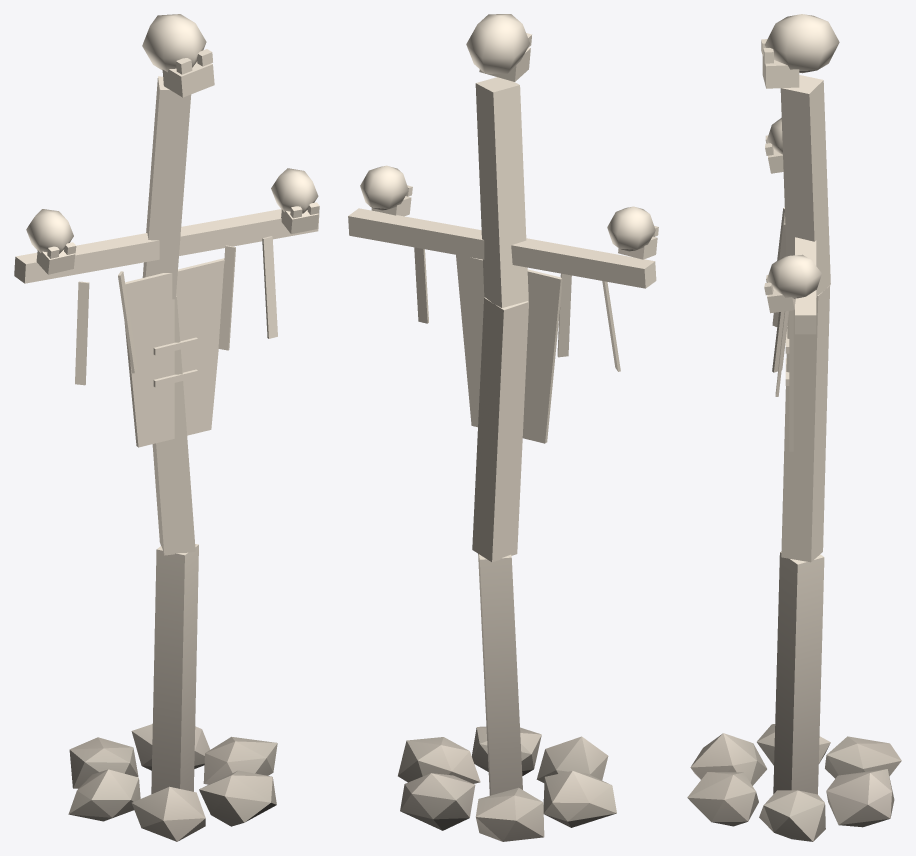
File: SM_VKI_Prop_Totem_Goblin.fbx
3 views of the same model, side by side, from view 1: azimuth 30°, elevation 25°; view 2: azimuth 150°, elevation 25°; view 3: azimuth 270°, elevation 25° (orthographic).
Parts seen in each view (by area): view 1: SM_VKI_Prop_Totem_Goblin.001; view 2: SM_VKI_Prop_Totem_Goblin.001; view 3: SM_VKI_Prop_Totem_Goblin.001.
Part boxes in pixels (x1=…): SM_VKI_Prop_Totem_Goblin.001: x1=14, y1=14, x2=319, y2=841; SM_VKI_Prop_Totem_Goblin.001: x1=348, y1=14, x2=658, y2=841; SM_VKI_Prop_Totem_Goblin.001: x1=687, y1=14, x2=901, y2=841.
Bounding box in the file's own units: 0.9637 × 2.48 × 0.6018.
